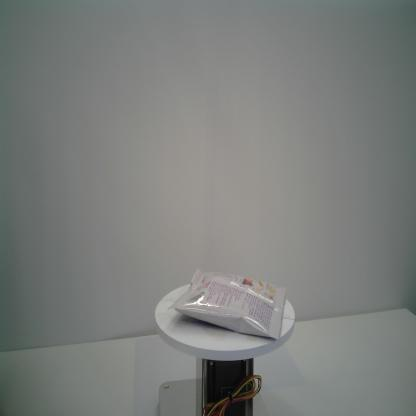Instant Drink: (167, 267, 286, 340)
